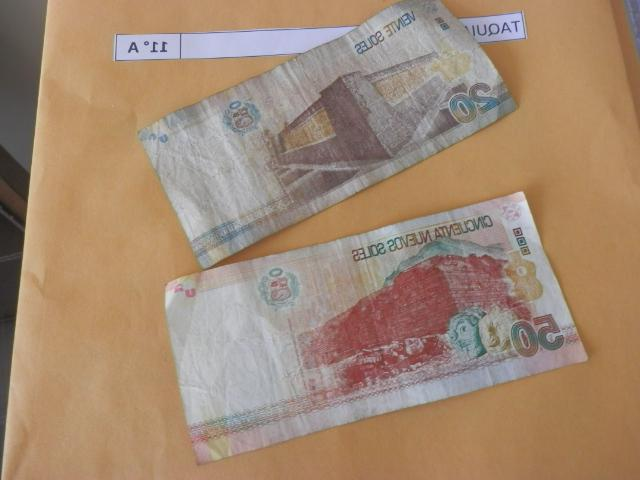B20: (140, 2, 526, 191)
B50: (149, 191, 590, 464)
